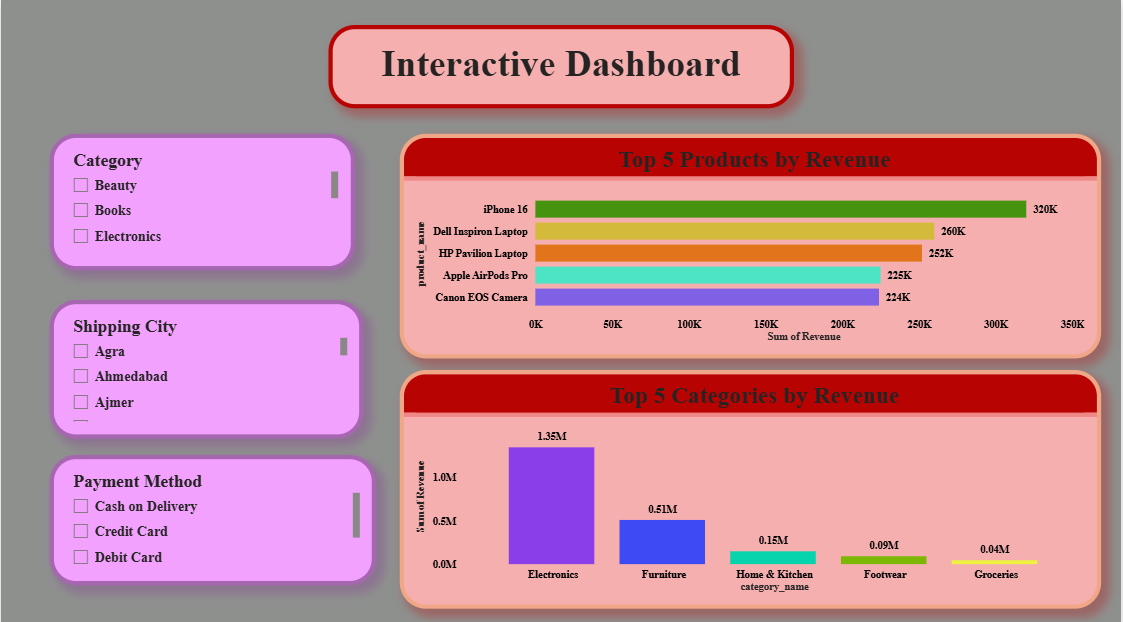

What the dashboard file says about the page in this screenshot:
{"tool":"powerbi","page":{"name":"Interactive Dashboard","canvas":[1280,720],"ordinal":3},"visuals":[{"type":"textbox","box":[374.7,28.4,532.3,95.1],"z":0},{"type":"slicer","fields":{"Values":["orders.payment_method"]},"box":[55.7,520,372.9,148.6],"z":1000},{"type":"slicer","fields":{"Values":["orders.shipping_city"]},"box":[55.7,342.9,358.6,158.6],"z":2000},{"type":"slicer","fields":{"Values":["categories.category_name"]},"box":[55.7,152.9,348.6,155.7],"z":3000},{"type":"barChart","title":"Top 5 Products by Revenue","fields":{"Y":["Sum(product_revenue.Revenue)"],"Category":["products.product_name"]},"box":[455.7,152.9,801.4,257.1],"z":4000},{"type":"columnChart","title":"Top 5 Categories by Revenue","fields":{"Y":["Sum(product_revenue.Revenue)"],"Category":["categories.category_name"]},"box":[455.7,422.9,801.4,272.9],"z":5000}]}

Visuals, with their boxes in screenshot pixels (x1, y1, x2, y2), scaled from the page's 1280x720 canvas onto the 1123x622 screenshot:
textbox: box=[329, 25, 796, 107]
slicer - orders.payment_method: box=[49, 449, 376, 578]
slicer - orders.shipping_city: box=[49, 296, 363, 433]
slicer - categories.category_name: box=[49, 132, 355, 267]
"Top 5 Products by Revenue" barChart: box=[400, 132, 1103, 354]
"Top 5 Categories by Revenue" columnChart: box=[400, 365, 1103, 601]
